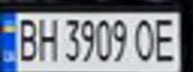0: (96, 16, 115, 63)
3: (60, 15, 81, 63)
9: (109, 16, 133, 63), (78, 16, 96, 63)
B: (12, 15, 42, 63)
E: (148, 15, 181, 63)
H: (33, 15, 60, 63)
O: (133, 15, 160, 63)
